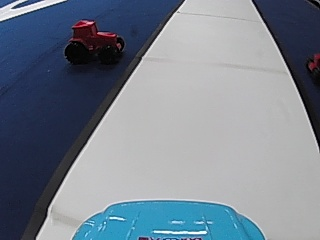tractor: (63, 17, 127, 65), (305, 53, 320, 77)
